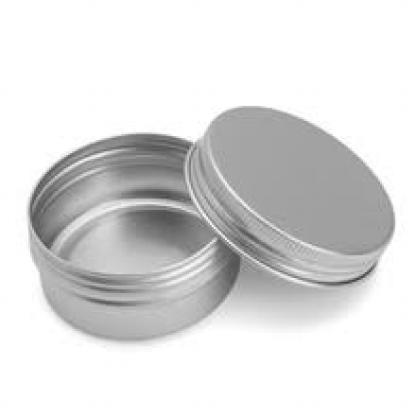Compsot: (23, 131, 238, 338), (182, 100, 394, 286)
